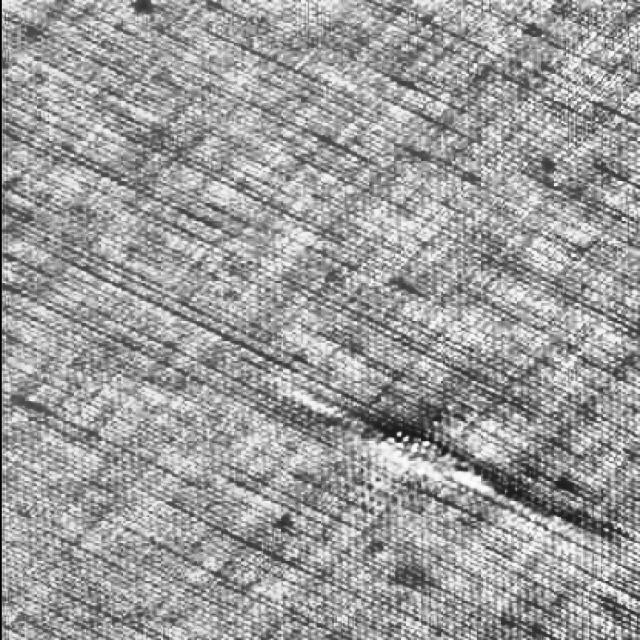thread_error: (280, 363, 550, 531)
